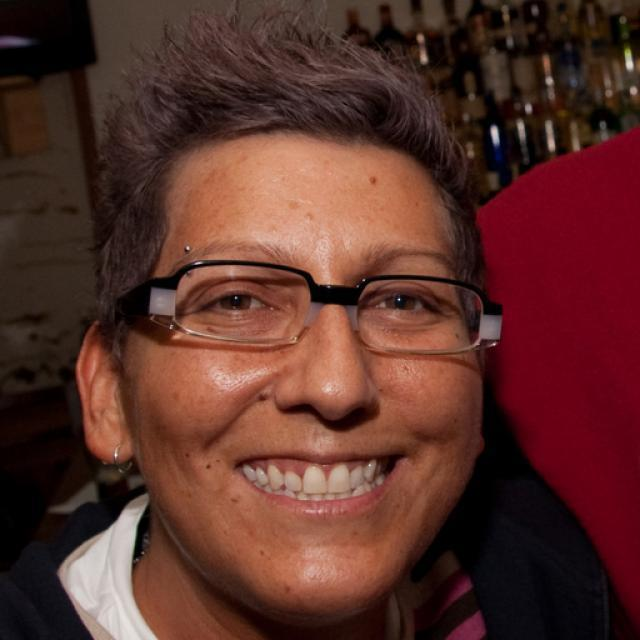0_rostro_limpio: (80, 34, 483, 623)
